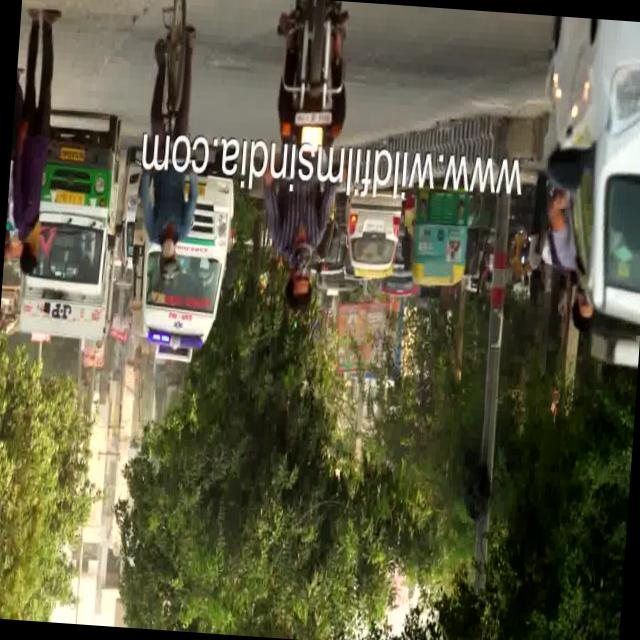ambulance: (112, 134, 244, 379)
